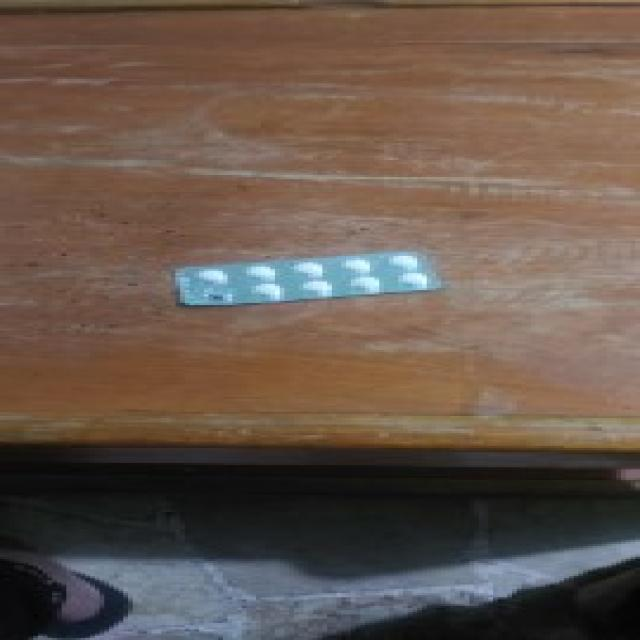Cacat: (164, 252, 443, 308)
Kemasan: (190, 286, 237, 306)
